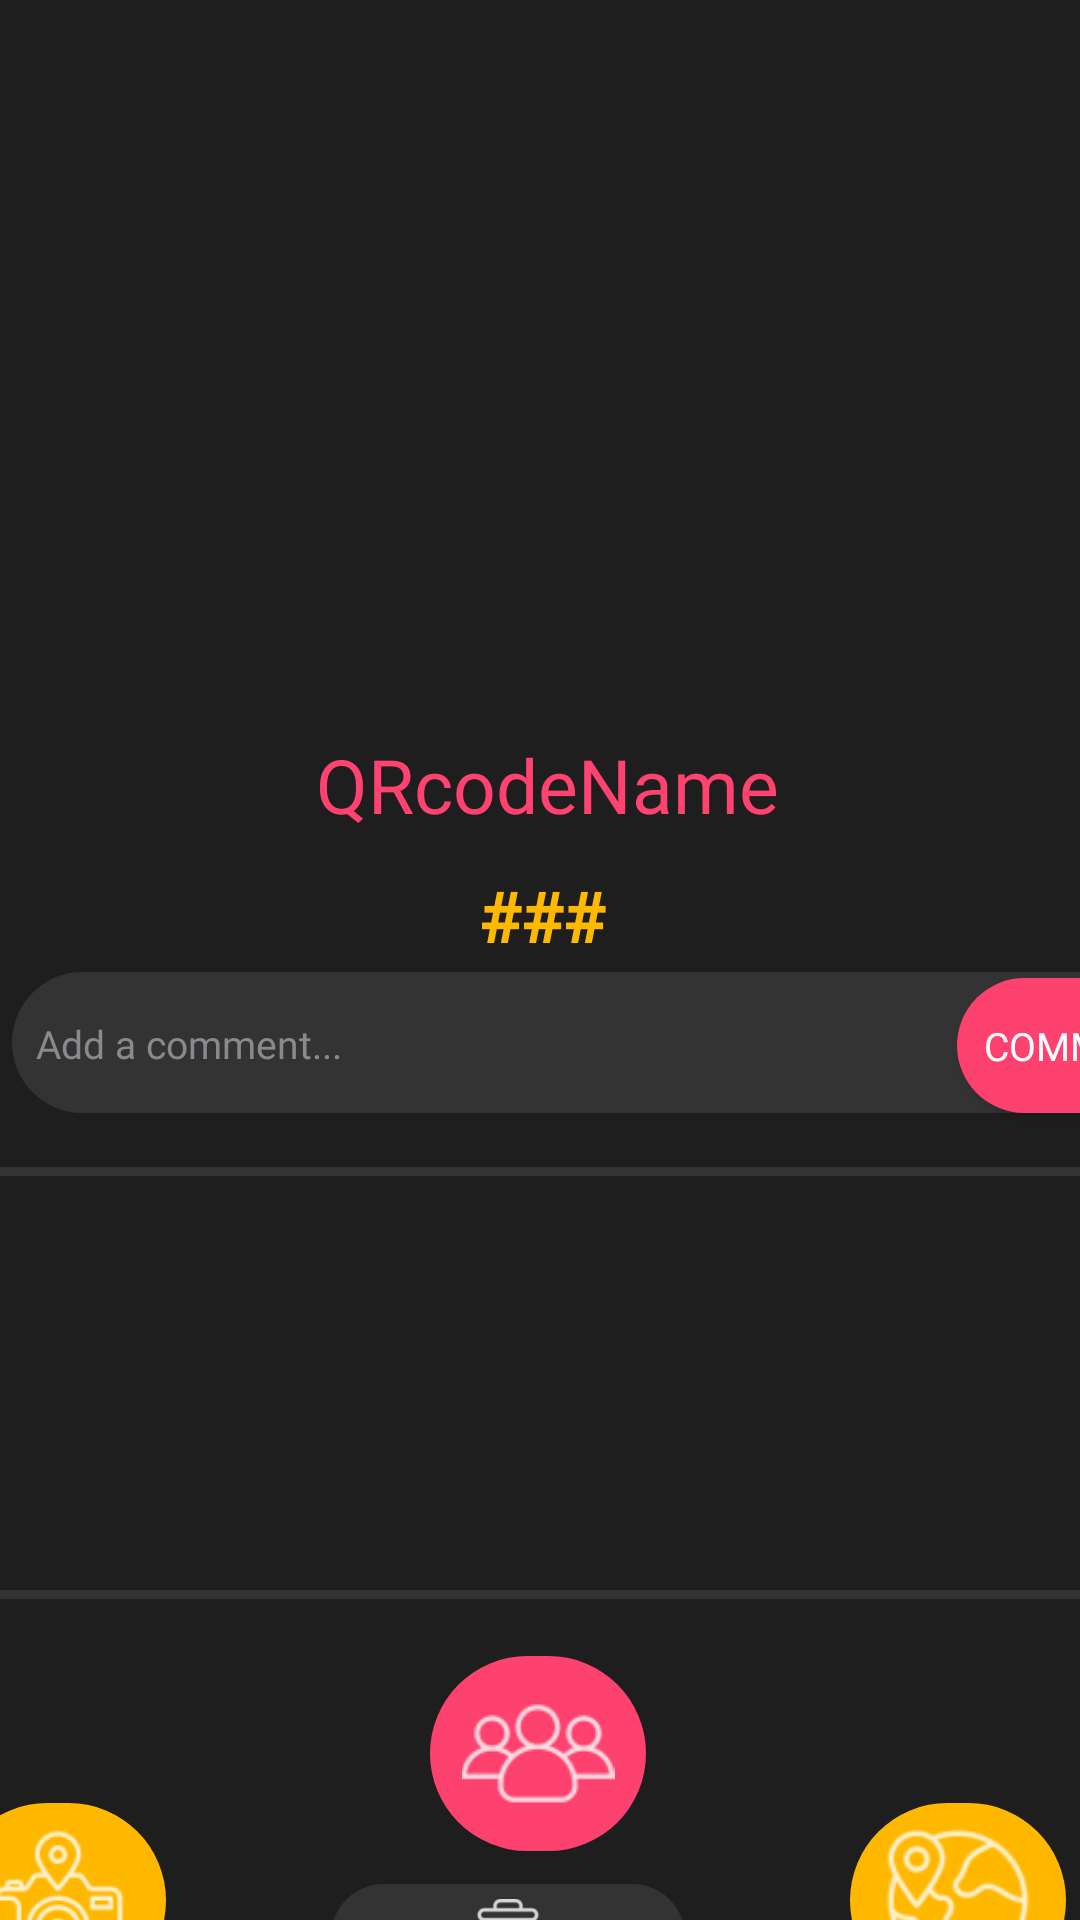

Where to tap for icons on this 1080 x 1920 app screen, as point (x, y):
other users: point (538, 1753)
